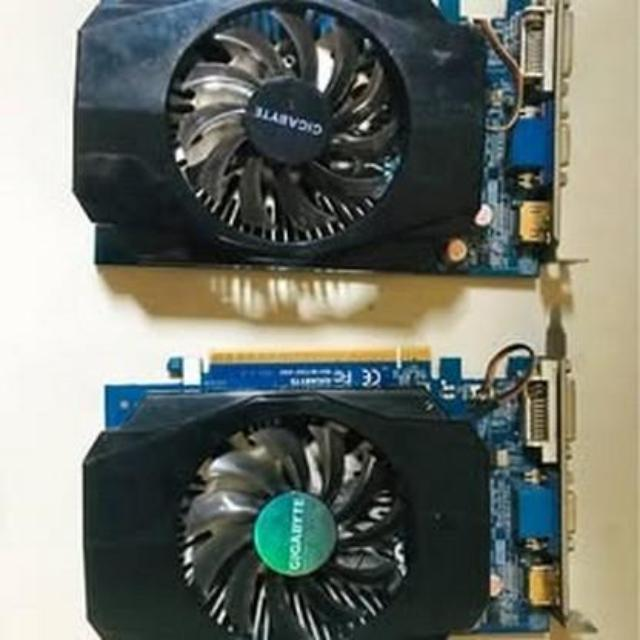GPU: (78, 0, 600, 285), (90, 343, 576, 640)
